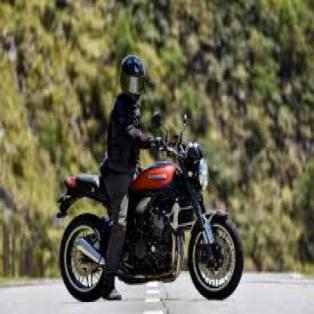Motocicleta: (53, 138, 250, 306)
